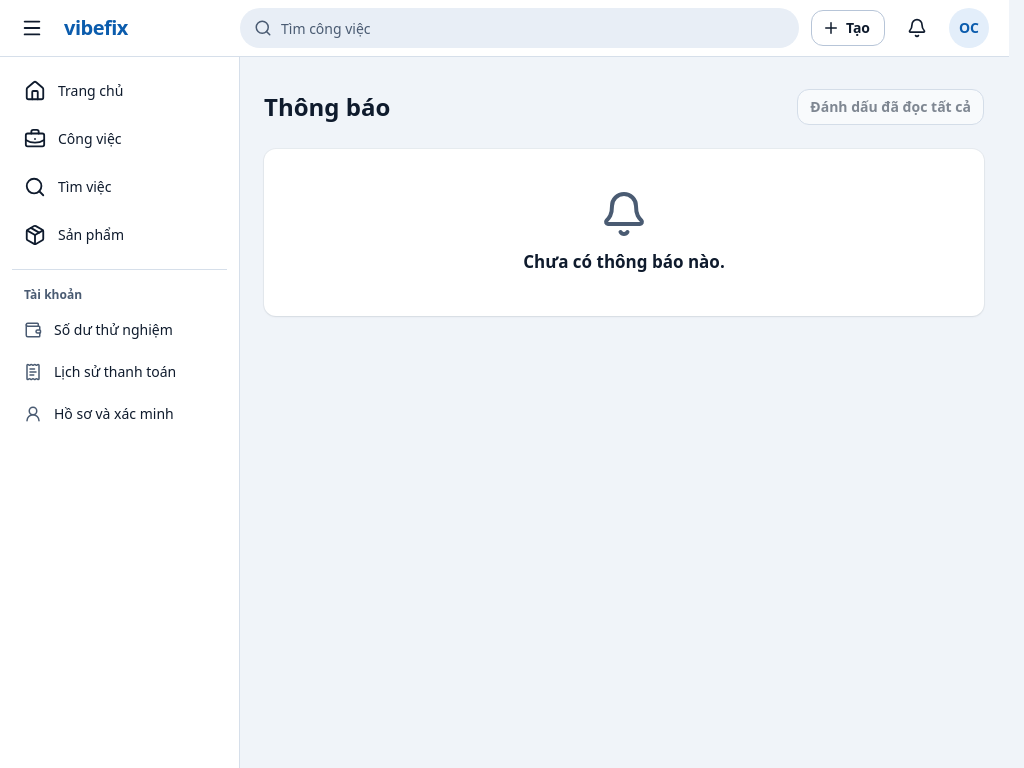
Test: folding the sidebar from 1024 px › folds the column into the rail and back, and remembers the choice in this browser
This screenshot has width=1024, height=768.
Expected: the navigation bar "Tài khoản" is shown, [12, 269, 227, 434]
Step 1. Click the button named "Thu nhỏ thanh bên" → (32, 28), box [12, 8, 52, 48]
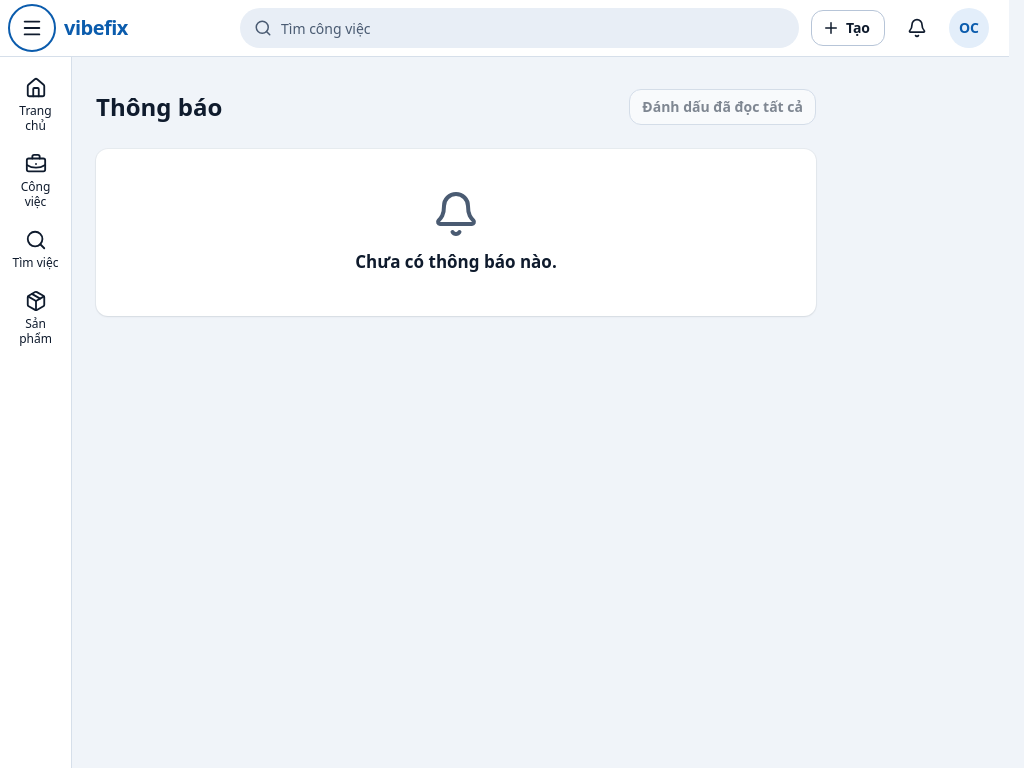
Expected: the text "Tài khoản" is gone
Expected: the links read "Trang chủ", "Công việc", "Tìm việc", "Sản phẩm", in this order, [19, 77, 52, 134]; [21, 153, 50, 210]; [13, 229, 58, 271]; [19, 290, 52, 347]
Expected: the button named "Mở rộng thanh bên" is collapsed
Step 2. Click the button named "Mở rộng thanh bên" → (32, 28), box [12, 8, 52, 48]
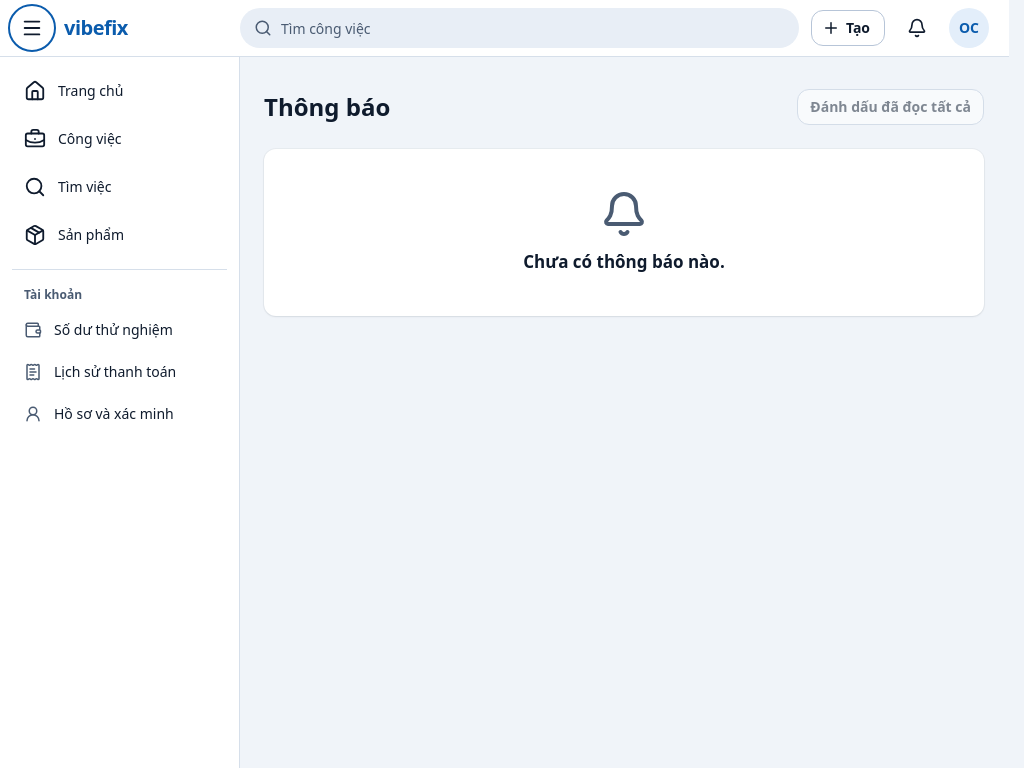
Expected: the navigation bar "Tài khoản" is shown, [12, 269, 227, 434]
